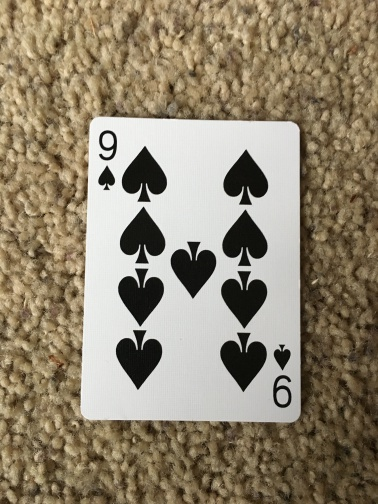nine: (80, 114, 302, 421)
